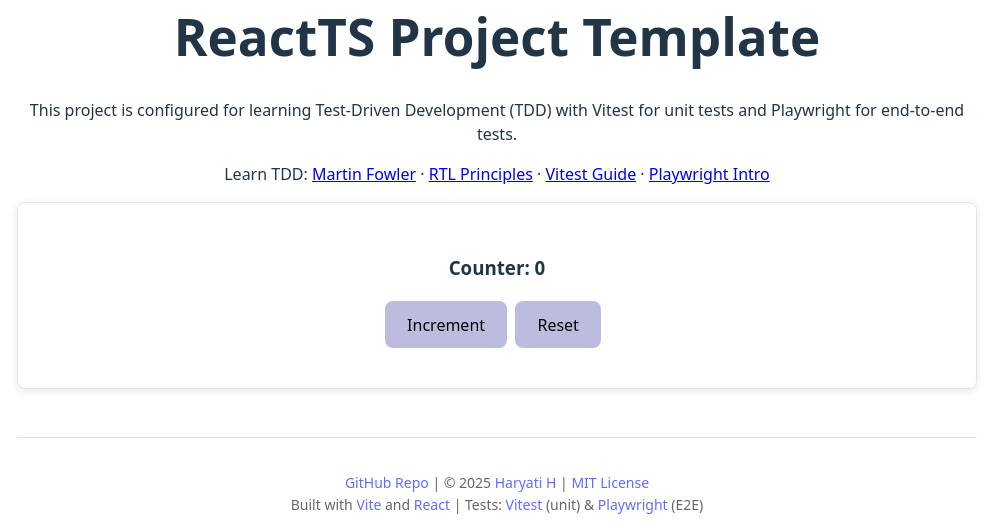
App component › User Interactions › resets counter to 0 when reset button is clicked
# Increment multiple times
Step 1. Click the button "Increment" → [446, 324], box [385,301,507,348]
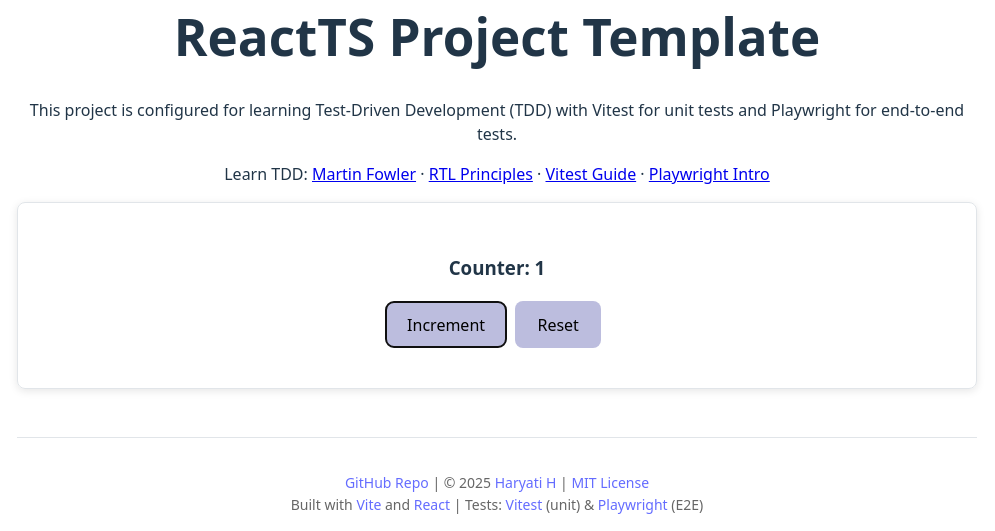
Step 2. Click the button "Increment" → [446, 324], box [385,301,507,348]
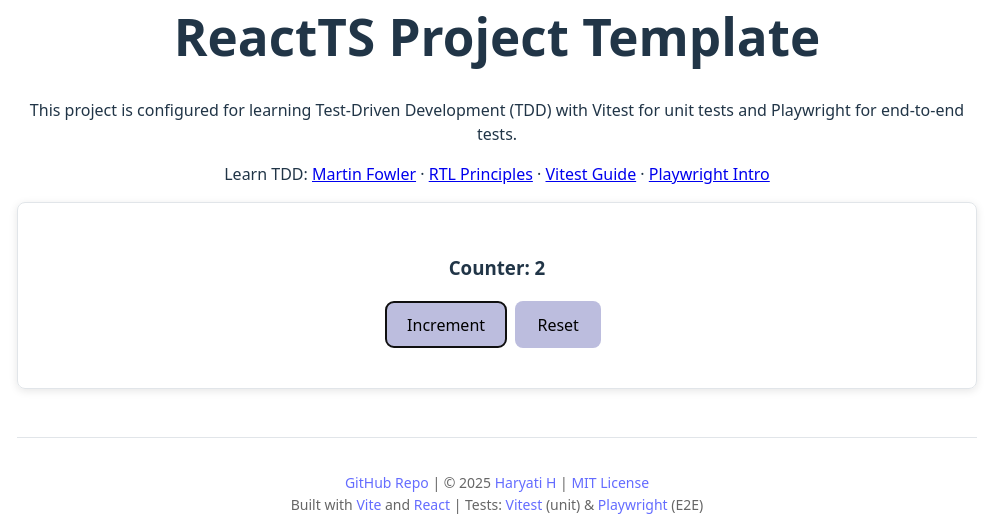
Step 3. Click the button "Increment" → [446, 324], box [385,301,507,348]
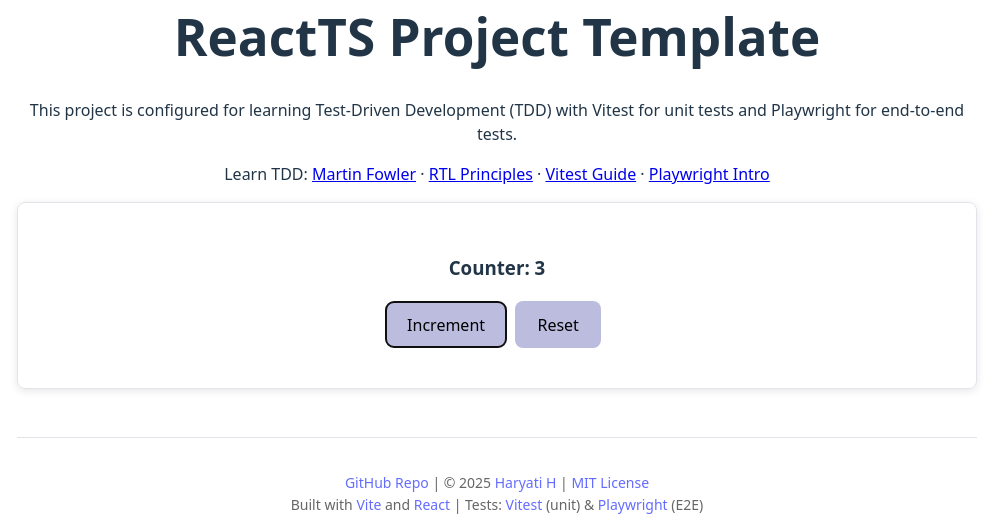
Now the heading "Counter: 3" is shown, box [449,255,545,280]
Step 4. Click the button "Reset" → [558, 324], box [515,301,601,348]
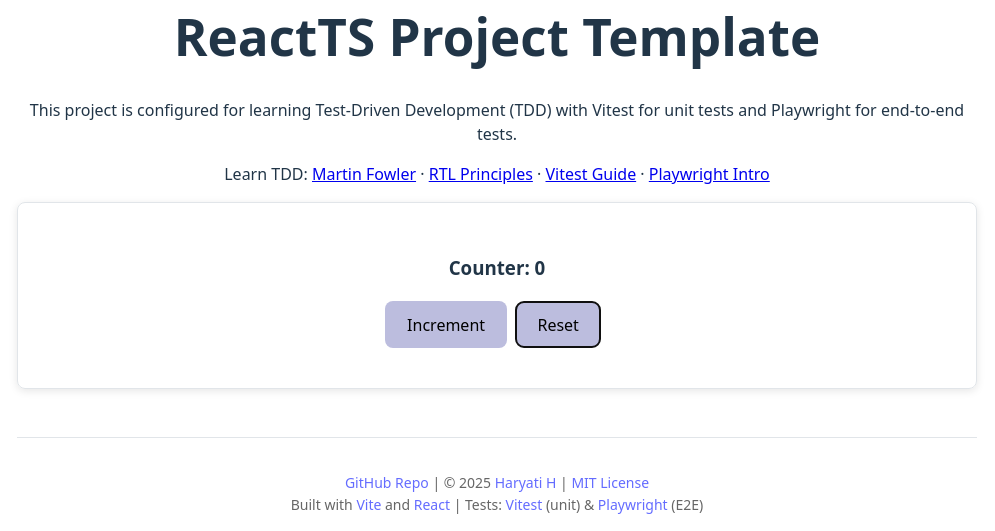
Now the heading "Counter: 0" is shown, box [449,255,545,280]
